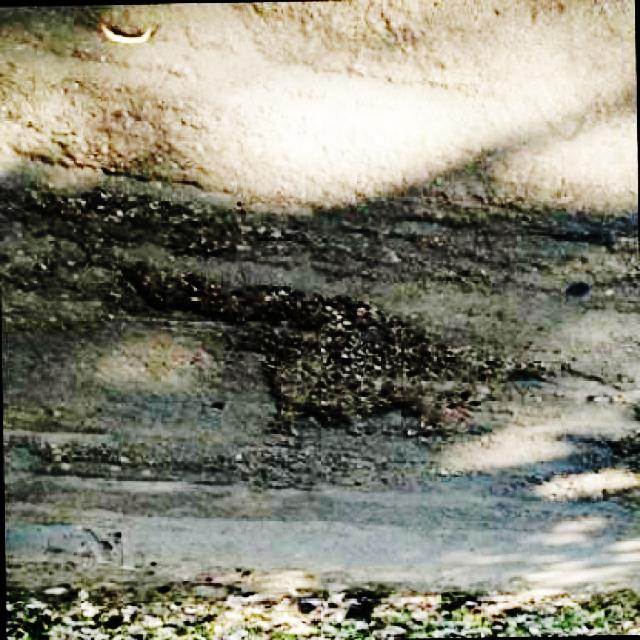pothole: (111, 259, 558, 443)
